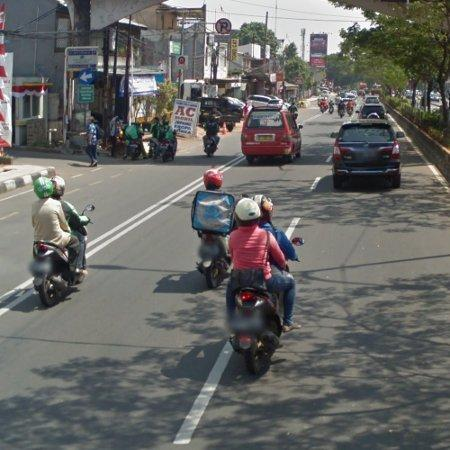motorcycles: (230, 287, 283, 375), (29, 243, 75, 307)
